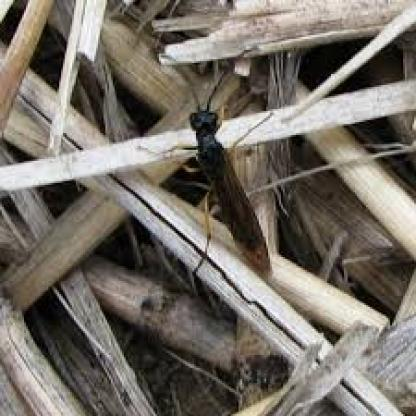sawfly: (155, 57, 292, 282)
